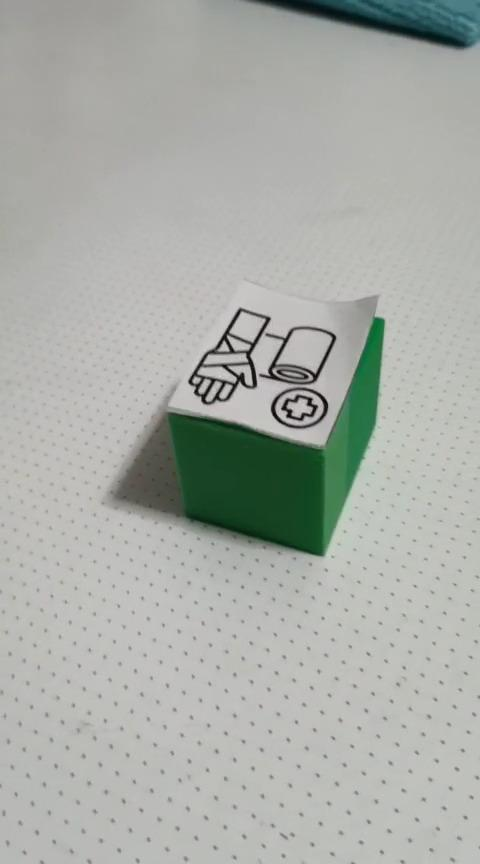Bandages: (165, 277, 385, 556)
